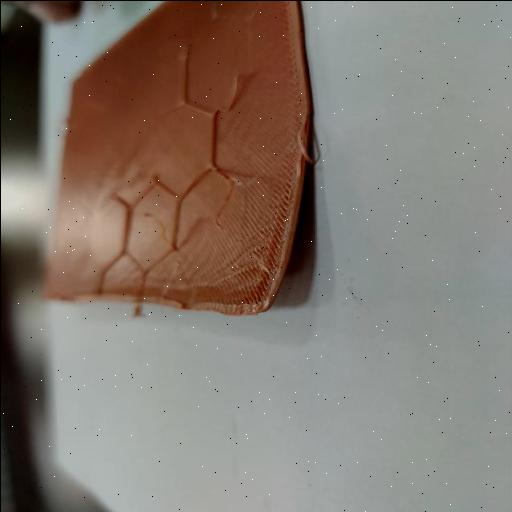cracks: (193, 113, 335, 328)
